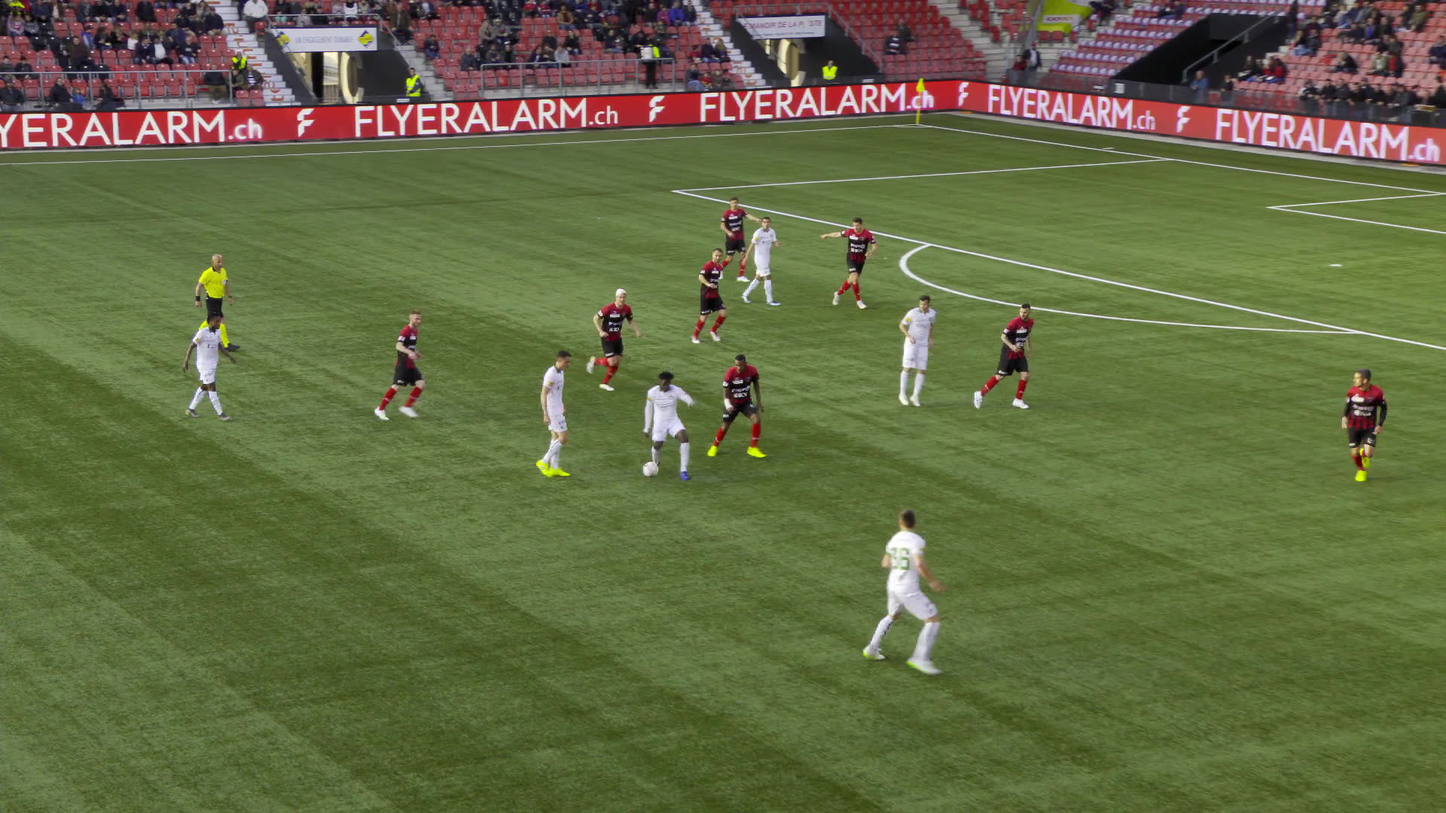ball: (642, 463, 658, 478)
player: (865, 510, 938, 675), (368, 309, 435, 419), (700, 353, 770, 458), (1331, 367, 1390, 480), (634, 371, 694, 480), (532, 351, 579, 481), (980, 306, 1036, 410), (184, 311, 236, 422), (818, 219, 878, 309), (585, 285, 634, 388), (895, 298, 937, 408), (685, 248, 726, 346), (719, 196, 761, 281), (745, 215, 780, 305)
referee: (191, 253, 234, 352)
